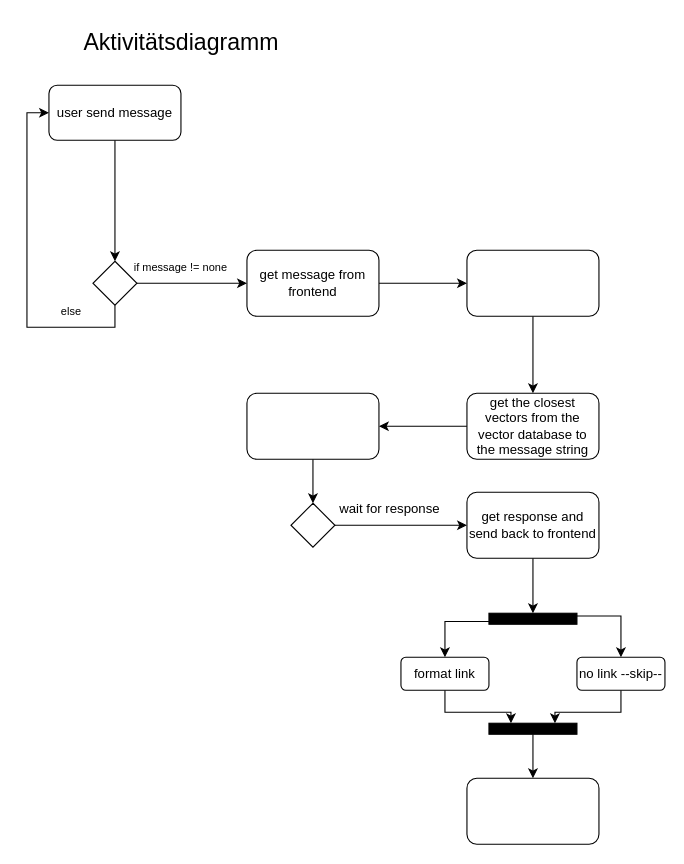
Image size: 684x864. Some labels were removed from this diagram. Here are the shapes that lost their labels. From the top down, the box of each, then its label:
(466, 249, 599, 316): send message to backend server
(246, 392, 379, 459): send all data in the right format to openai API
(466, 777, 599, 844): append formatted message to frontend chat
